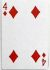four: (1, 1, 48, 69)
